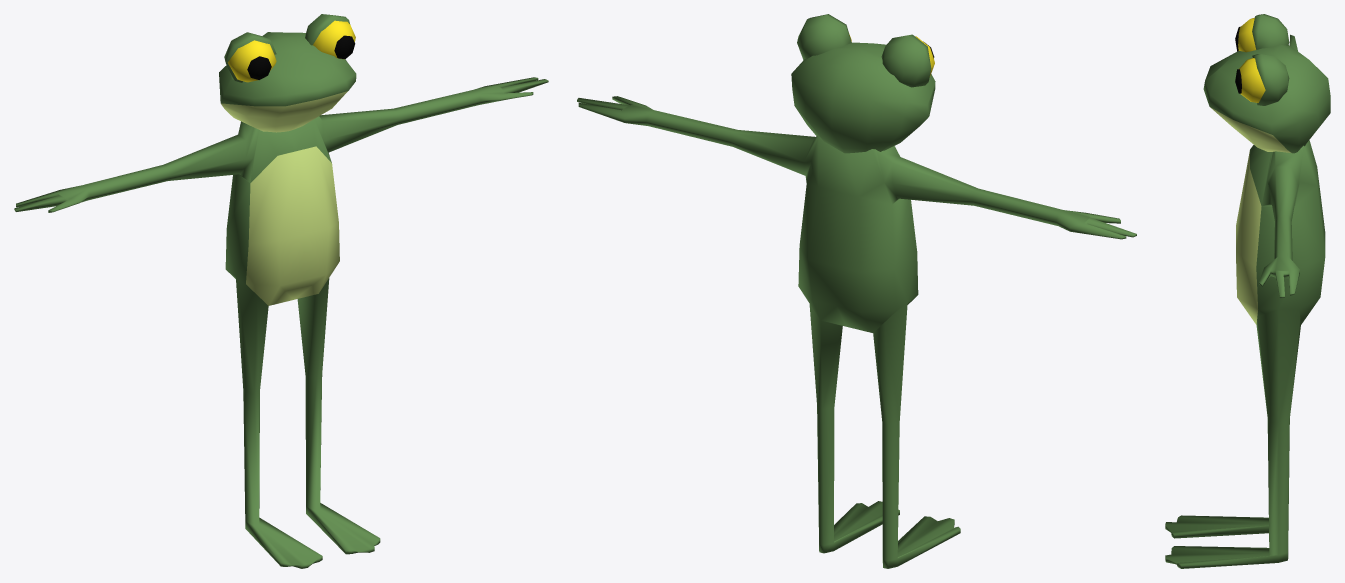
File: zhabka.glb
The picture shows the model from 3 angles, left to right: view 1: azimuth 30°, elevation 25°; view 2: azimuth 150°, elevation 25°; view 3: azimuth 270°, elevation 25°; orthographic projection. The views are drawn at different scales.
Parts seen in each view (by area): view 1: Cube, Сфера, Сфера.002, Сфера.001, Сфера.005; view 2: Cube, Сфера, Сфера.001; view 3: Cube, Сфера, Сфера.001, Сфера.002.
Part boxes in pixels (bbox=[...]): Cube: bbox=[14, 77, 548, 568]; Сфера: bbox=[219, 32, 356, 132]; Сфера.002: bbox=[227, 20, 355, 82]; Сфера.001: bbox=[224, 14, 350, 82]; Сфера.005: bbox=[247, 35, 355, 79]; Cube: bbox=[577, 96, 1136, 568]; Сфера: bbox=[791, 42, 935, 153]; Сфера.001: bbox=[797, 14, 931, 87]; Cube: bbox=[1165, 34, 1325, 568]; Сфера: bbox=[1203, 44, 1330, 153]; Сфера.001: bbox=[1252, 14, 1289, 105]; Сфера.002: bbox=[1238, 18, 1265, 102].
Bounding box in the file's own units: 1.05 × 0.9415 × 0.2774.
